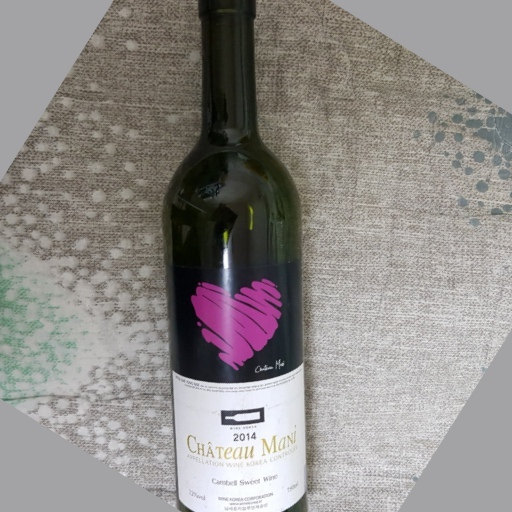Glass_2: (163, 1, 313, 512)
